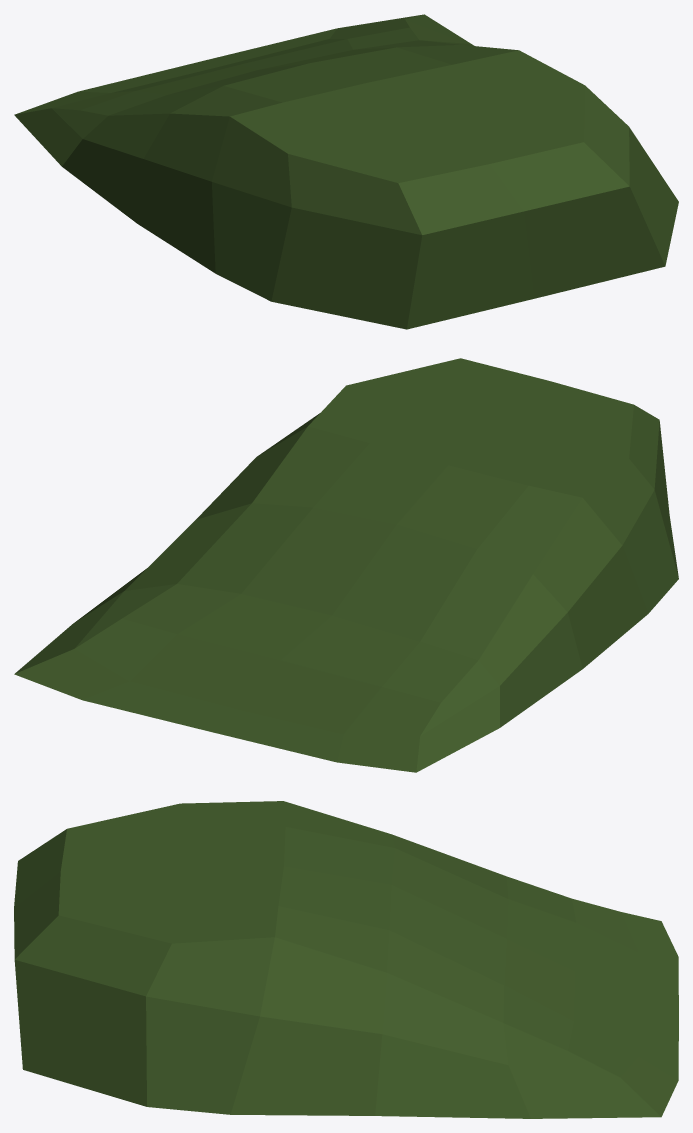
The model's file is n_m_slops01.fbx.
3 views of the same model, one above another, from view 1: azimuth 30°, elevation 25°; view 2: azimuth 150°, elevation 25°; view 3: azimuth 270°, elevation 25° (orthographic). The views are drawn at different scales.
Visible parts, largest first — view 1: slopp; view 2: slopp; view 3: slopp.
Boxes of the visible parts, x1,y1,x2,y2 form: slopp: (14, 14, 678, 329); slopp: (14, 358, 678, 772); slopp: (14, 801, 678, 1118).
Size of the model in its own units: 1542 by 451 by 2059.
1 material, 1 textured.
